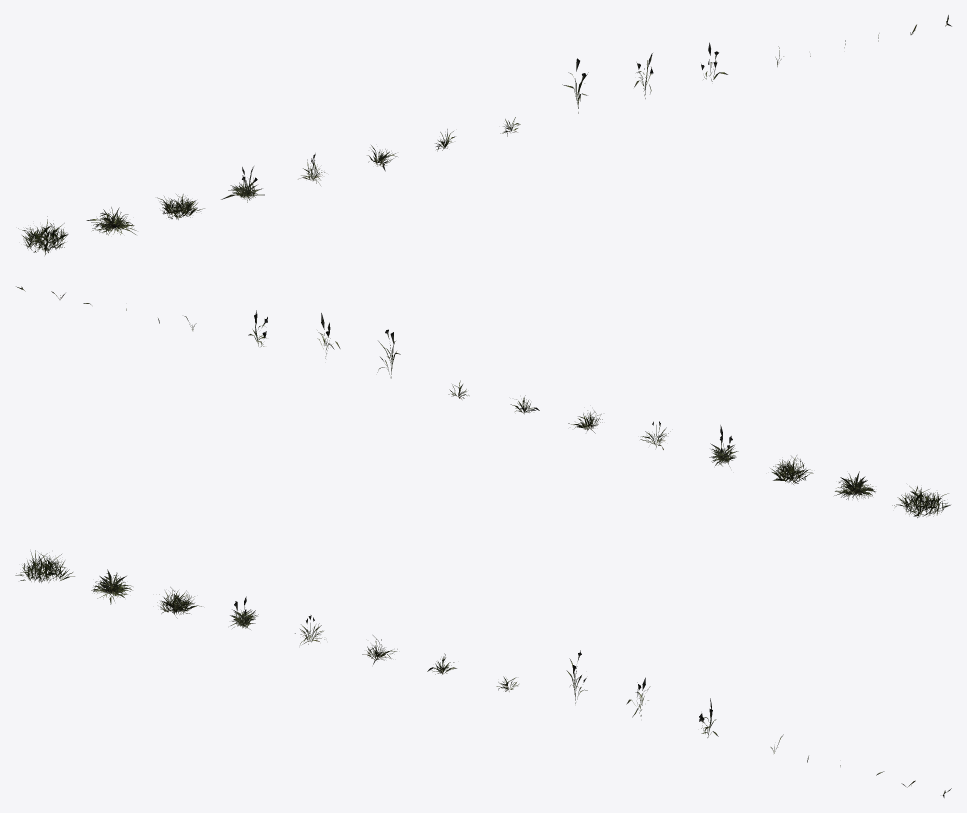
The model's file is grass_medium_01_lod2.glb.
3 views of the same model, one above another, from view 1: azimuth 30°, elevation 25°; view 2: azimuth 150°, elevation 25°; view 3: azimuth 330°, elevation 25° (orthographic).
Visible parts, largest first — view 1: grass_medium_01_small_a_LOD0; view 2: grass_medium_01_small_a_LOD0; view 3: grass_medium_01_small_a_LOD0.
Part boxes in pixels (x1,y1,x2,y2): grass_medium_01_small_a_LOD0: (18, 15, 951, 254); grass_medium_01_small_a_LOD0: (16, 286, 950, 517); grass_medium_01_small_a_LOD0: (15, 550, 951, 797).
Bounding box in the file's own units: 5.6 × 0.3386 × 0.3263.
1 material, 1 textured.
